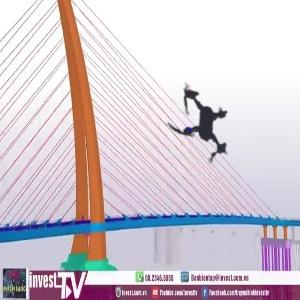drone: (132, 51, 280, 199)
